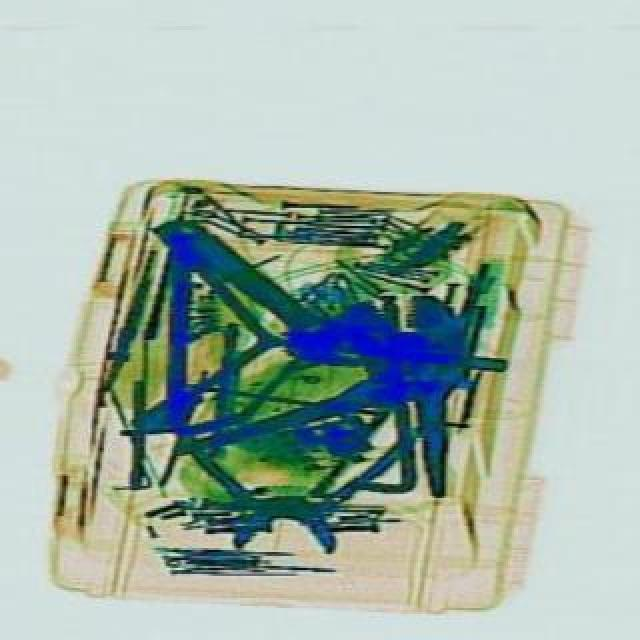wrench: (158, 412, 420, 556)
